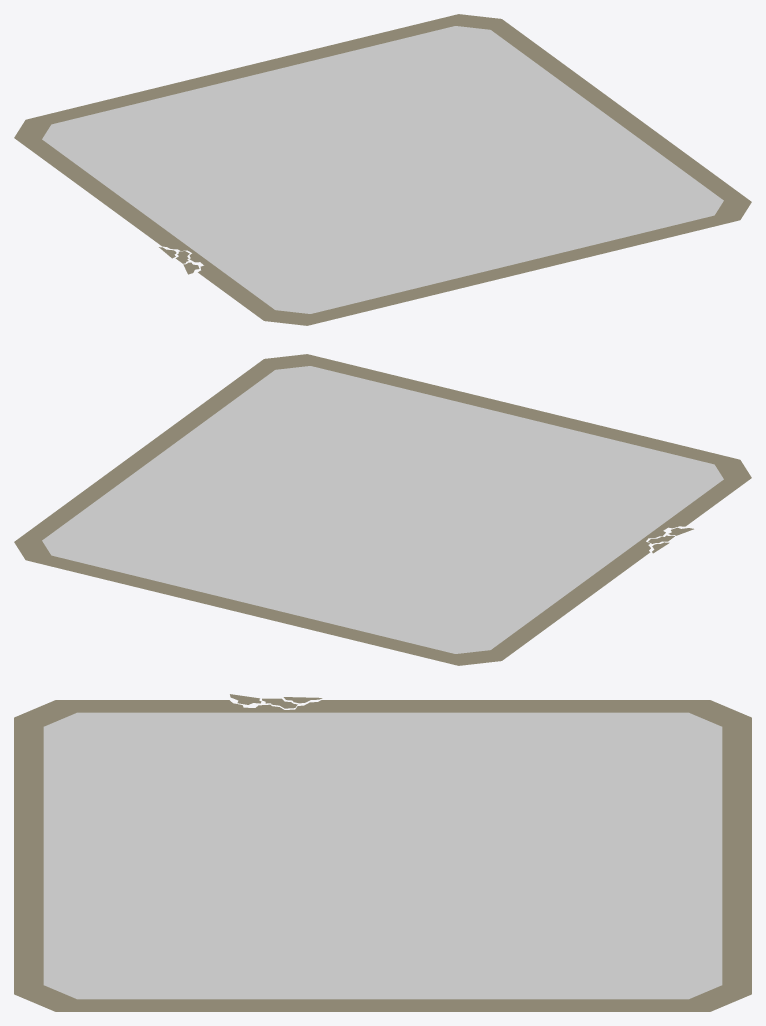
File: Ground4.fbx
3 renders of one model, top to bottom at view 1: azimuth 30°, elevation 25°; view 2: azimuth 150°, elevation 25°; view 3: azimuth 270°, elevation 25°, orthographic. The views are drawn at different scales.
Parts seen in each view (by area): view 1: Ground4; view 2: Ground4; view 3: Ground4.
Part boxes in pixels (bbox=[...]): Ground4: bbox=[14, 14, 751, 325]; Ground4: bbox=[14, 354, 751, 665]; Ground4: bbox=[14, 694, 751, 1011].
Bounding box in the file's own units: 9 × 0 × 8.83.
